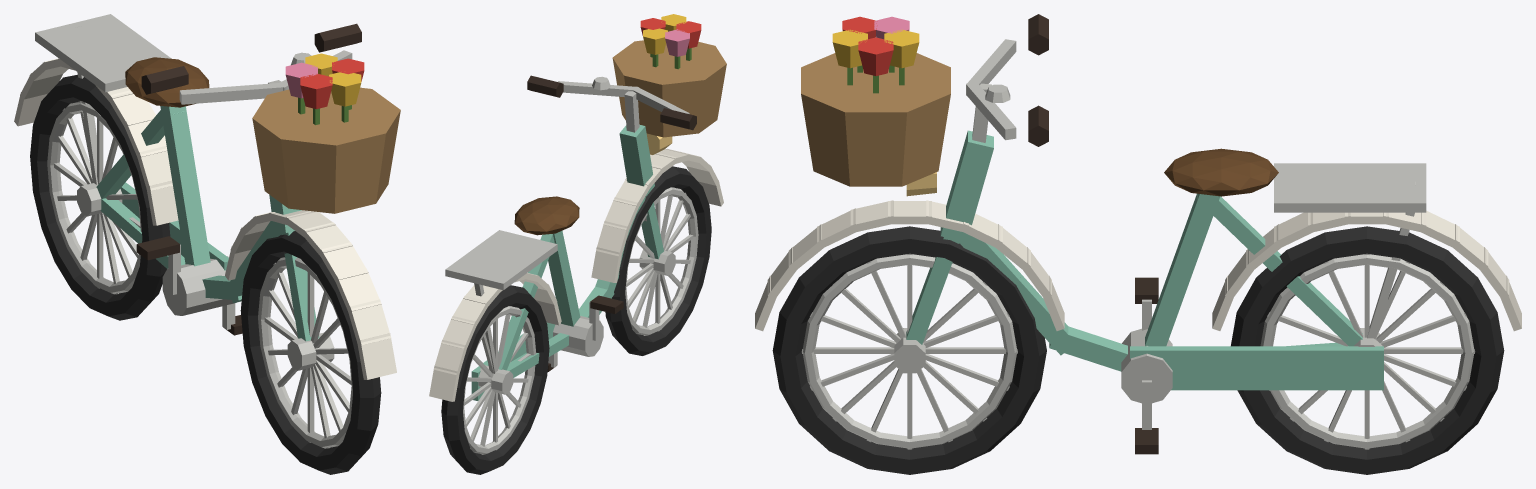
The model's file is bicycle.glb.
The picture shows the model from 3 angles, left to right: view 1: azimuth 30°, elevation 25°; view 2: azimuth 150°, elevation 25°; view 3: azimuth 270°, elevation 25°; orthographic projection. The views are drawn at different scales.
Visible parts, largest first — view 1: bicycle-basket-wicker, bicycle-fittings-guard, bicycle-frame, front_wheel-tyre, rear_wheel-tyre, front_wheel-metal, rear_wheel-metal, bicycle-fittings-metal, bicycle-crank-metal, bicycle-fittings-saddle, bicycle-fittings-grip, bicycle-basket-red (+3 smaller); view 2: bicycle-fittings-guard, bicycle-frame, bicycle-basket-wicker, bicycle-fittings-metal, rear_wheel-tyre, front_wheel-tyre, front_wheel-metal, rear_wheel-metal, bicycle-fittings-saddle, bicycle-crank-metal, bicycle-fittings-grip, bicycle-basket-yellow (+4 smaller); view 3: bicycle-frame, front_wheel-tyre, rear_wheel-tyre, bicycle-basket-wicker, front_wheel-metal, bicycle-fittings-guard, rear_wheel-metal, bicycle-fittings-metal, bicycle-fittings-saddle, bicycle-crank-metal, bicycle-basket-yellow, bicycle-basket-red (+2 smaller).
Part boxes in pixels (left/top/right/bottom): bicycle-basket-wicker: left=252, top=87, right=400, bottom=213; bicycle-fittings-guard: left=14, top=58, right=396, bottom=379; bicycle-frame: left=96, top=106, right=319, bottom=341; front_wheel-tyre: left=240, top=231, right=381, bottom=474; rear_wheel-tyre: left=30, top=75, right=170, bottom=320; front_wheel-metal: left=258, top=257, right=352, bottom=448; rear_wheel-metal: left=47, top=101, right=141, bottom=294; bicycle-fittings-metal: left=35, top=14, right=352, bottom=184; bicycle-crank-metal: left=162, top=244, right=235, bottom=329; bicycle-fittings-saddle: left=125, top=57, right=209, bottom=107; bicycle-fittings-grip: left=141, top=23, right=361, bottom=94; bicycle-basket-red: left=300, top=58, right=364, bottom=109; bicycle-fittings-guard: left=429, top=148, right=723, bottom=401; bicycle-frame: left=471, top=125, right=663, bottom=400; bicycle-basket-wicker: left=612, top=40, right=726, bottom=137; bicycle-fittings-metal: left=445, top=76, right=689, bottom=373; rear_wheel-tyre: left=441, top=285, right=549, bottom=474; front_wheel-tyre: left=605, top=166, right=711, bottom=355; front_wheel-metal: left=625, top=187, right=698, bottom=335; rear_wheel-metal: left=463, top=306, right=536, bottom=454; bicycle-fittings-saddle: left=514, top=196, right=579, bottom=235; bicycle-crank-metal: left=548, top=302, right=603, bottom=367; bicycle-fittings-grip: left=527, top=75, right=696, bottom=130; bicycle-basket-yellow: left=643, top=14, right=686, bottom=54; bicycle-frame: left=906, top=130, right=1383, bottom=390; front_wheel-tyre: left=772, top=226, right=1046, bottom=474; rear_wheel-tyre: left=1231, top=226, right=1504, bottom=474; bicycle-basket-wicker: left=801, top=53, right=950, bottom=186; front_wheel-metal: left=801, top=253, right=1017, bottom=449; bicycle-fittings-guard: left=755, top=200, right=1521, bottom=331; rear_wheel-metal: left=1260, top=253, right=1475, bottom=449; bicycle-fittings-metal: left=966, top=39, right=1426, bottom=339; bicycle-fittings-saddle: left=1164, top=148, right=1278, bottom=196; bicycle-crank-metal: left=1121, top=299, right=1172, bottom=429; bicycle-basket-yellow: left=832, top=29, right=919, bottom=68; bicycle-basket-red: left=842, top=16, right=893, bottom=75.
Bounding box in the file's own units: 0.78 × 1.43 × 2.26.
